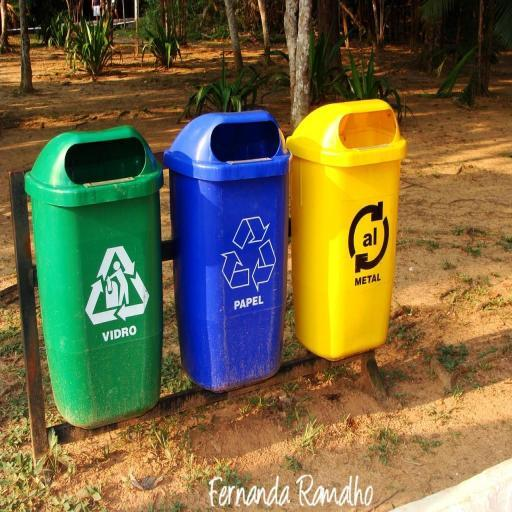trash-can: (34, 102, 174, 433), (162, 102, 295, 397), (288, 90, 412, 375)
